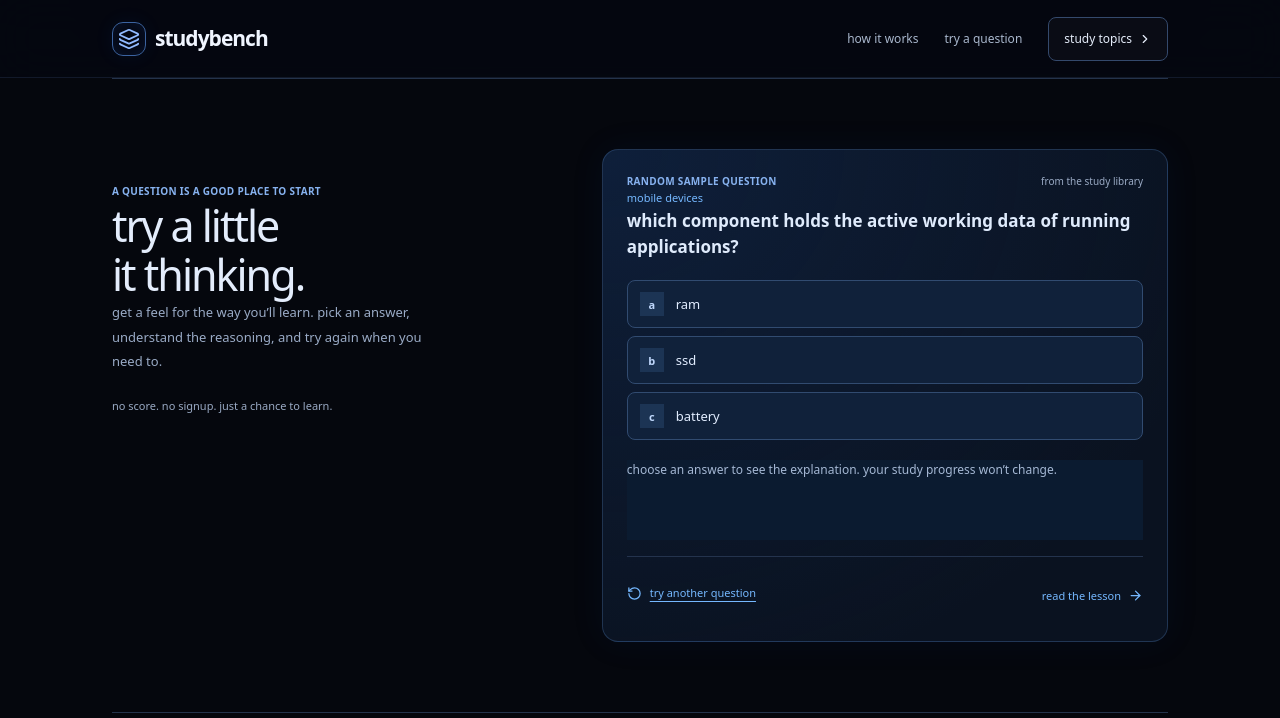
Scenario: study routes and recovery › introduces the site, offers random unscored practice, and opens topic selection
(page scrolled)
Click the button "B SSD" at (652, 360), box [627,336,1143,384]
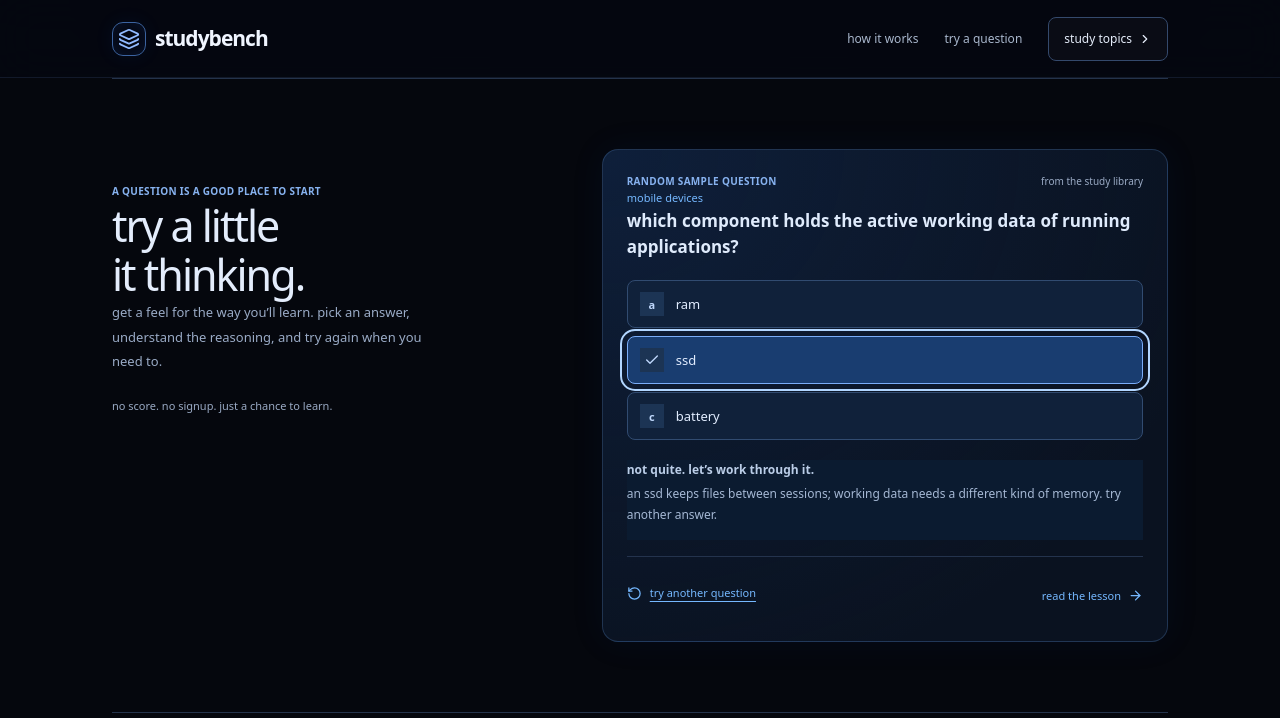
Expected: the text "Not quite. Let’s work through it." is shown, [627,461,814,478]
Click the button "A RAM" at (652, 304), box [627,280,1143,328]
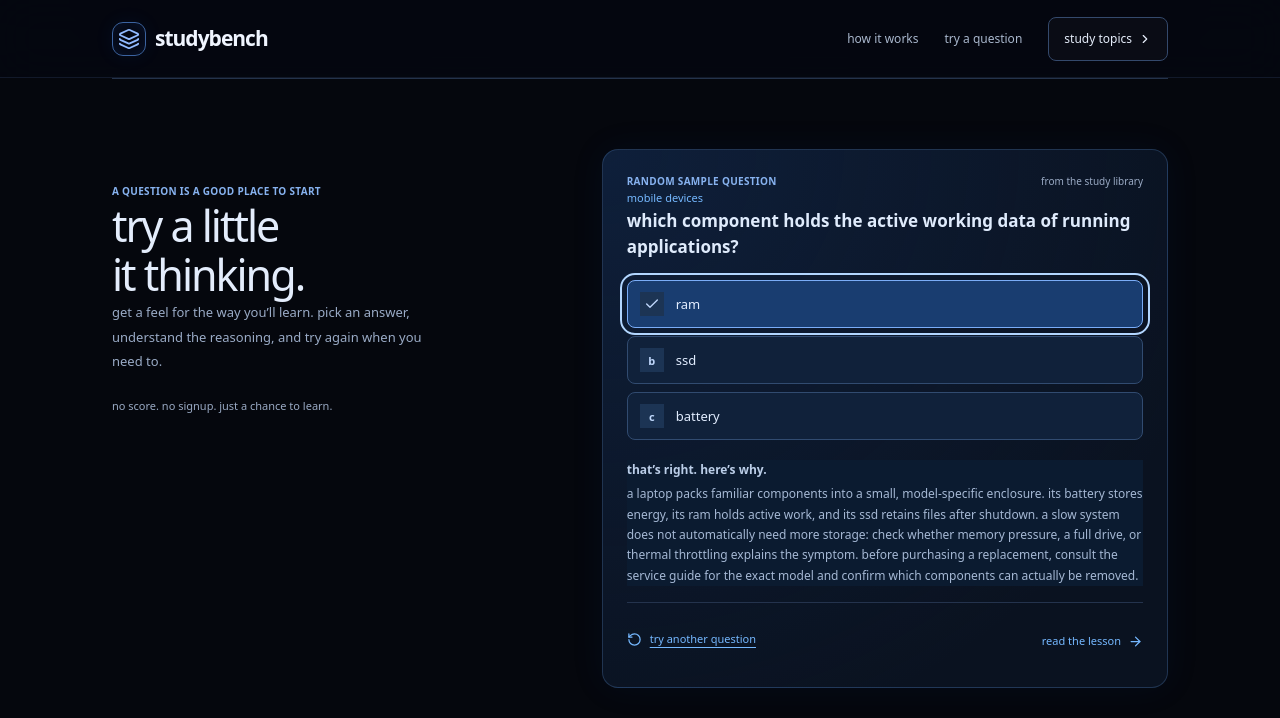
Expected: the text "That’s right. Here’s why." is shown, [627,461,767,478]
Click the button "Try another question" at (691, 639), box [627,617,756,661]
(page scrolled)
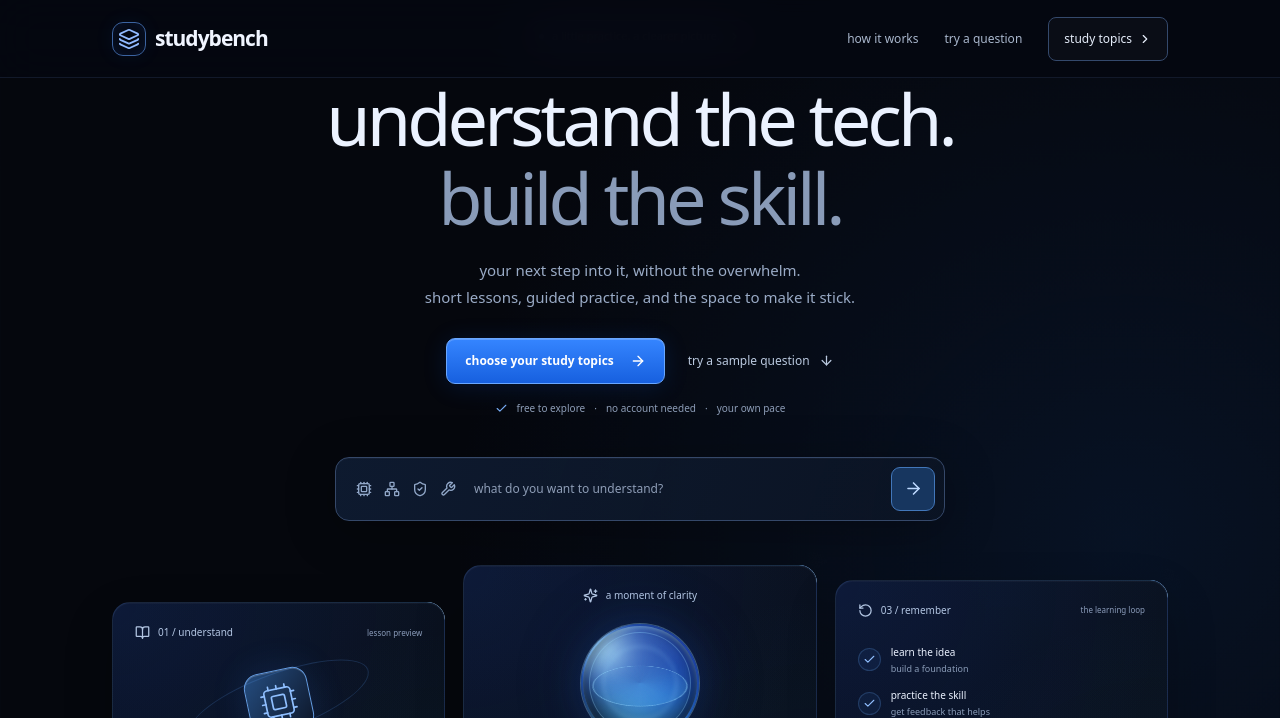
Expected: the button "RAM" is gone
Click the link "Choose your study topics" at (556, 361), box [446,338,665,384]
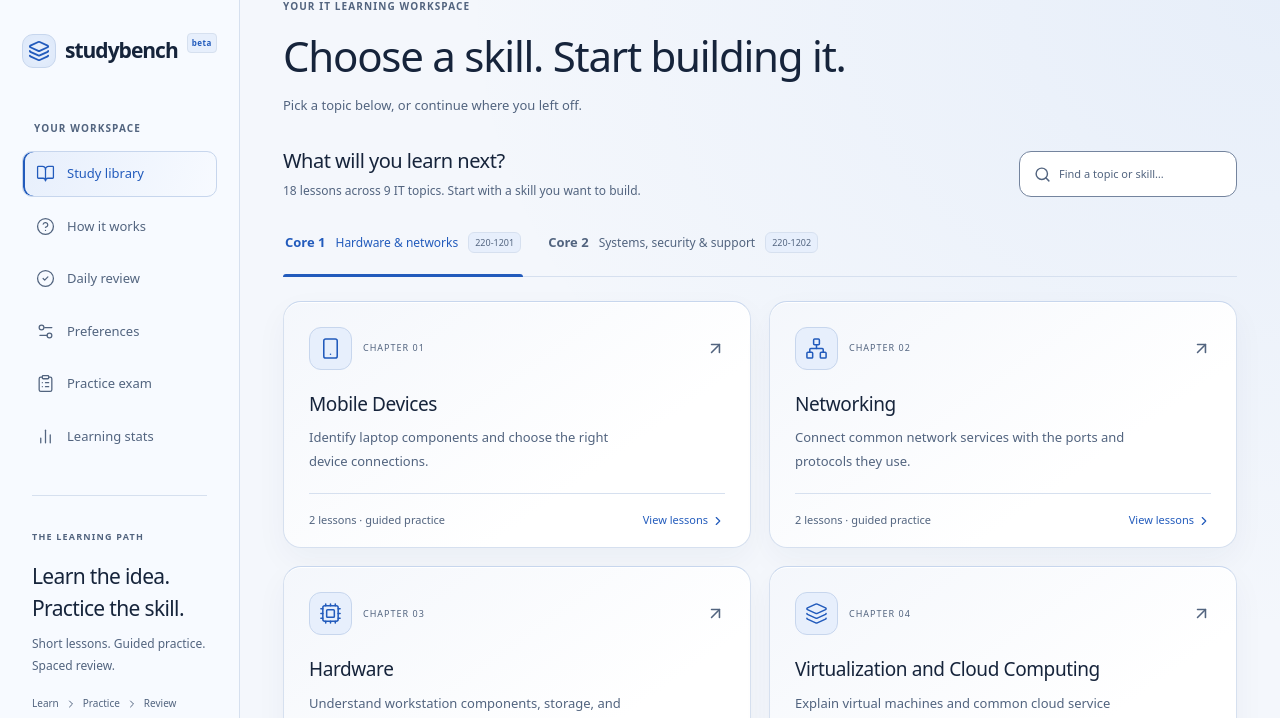
Expected: the heading "Choose a skill. Start building it." is shown, [283,30,846,82]
Expected: the number of links "CHAPTER" is 5
